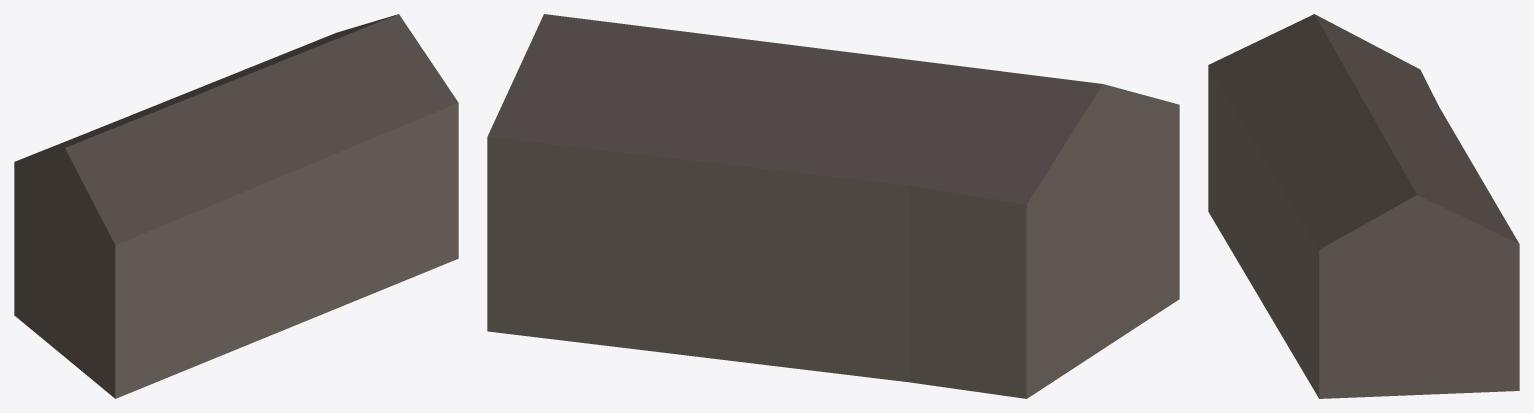
3 views of the same model, side by side, from view 1: azimuth 30°, elevation 25°; view 2: azimuth 150°, elevation 25°; view 3: azimuth 270°, elevation 25° (orthographic). The views are drawn at different scales.
Visible parts, largest first — view 1: HP-w1512965871; view 2: HP-w1512965871; view 3: HP-w1512965871.
Boxes of the visible parts, left/top/right/bottom form: HP-w1512965871: left=14, top=14, right=458, bottom=398; HP-w1512965871: left=487, top=14, right=1179, bottom=398; HP-w1512965871: left=1208, top=14, right=1519, bottom=398.
Bounding box in the file's own units: 16.4 × 8.18 × 11.52.
